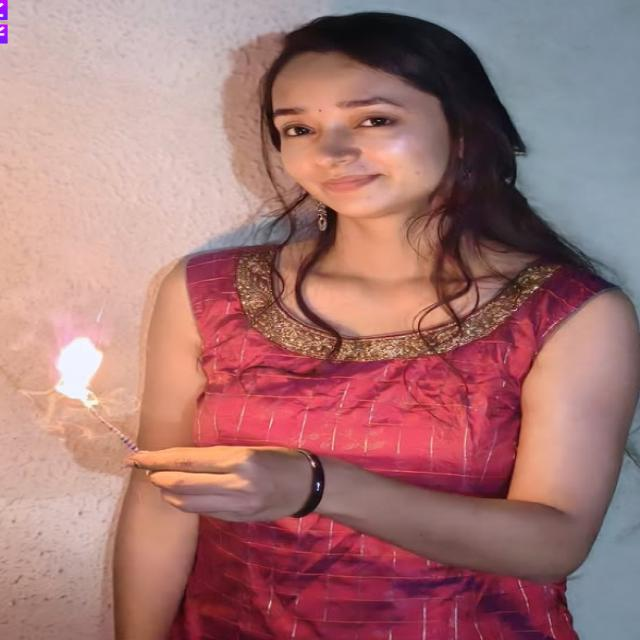fire: (54, 336, 104, 408)
